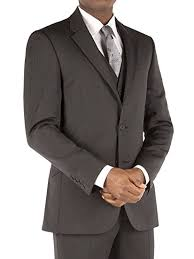F_M_suit jacket: (15, 3, 181, 241)
F_tie: (96, 29, 126, 75)
